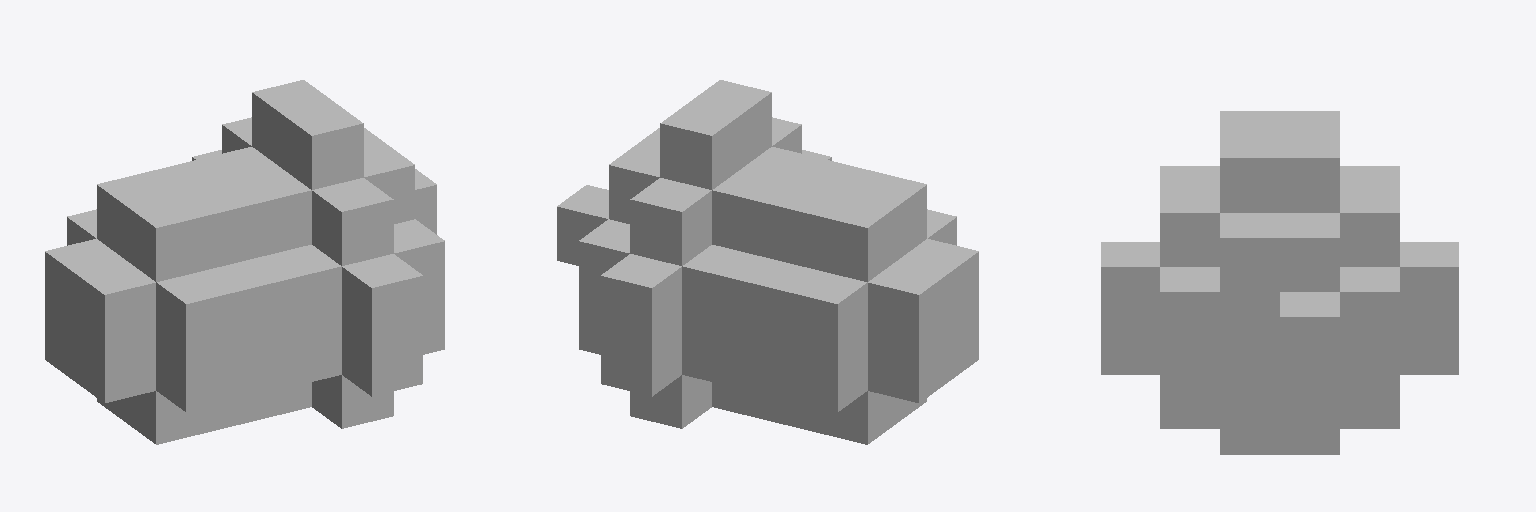
Rendered from acorn.obj.
The picture shows the model from 3 angles: view 1: azimuth 30°, elevation 25°; view 2: azimuth 150°, elevation 25°; view 3: azimuth 270°, elevation 25°; orthographic projection.
Visible parts, largest first — view 1: model.004; view 2: model.004; view 3: model.004.
Boxes of the visible parts, x1=… form: model.004: x1=45, y1=80, x2=444, y2=444; model.004: x1=557, y1=80, x2=978, y2=444; model.004: x1=1101, y1=111, x2=1458, y2=454.
Size of the model in its own units: 0.4375 by 0.3125 by 0.375.